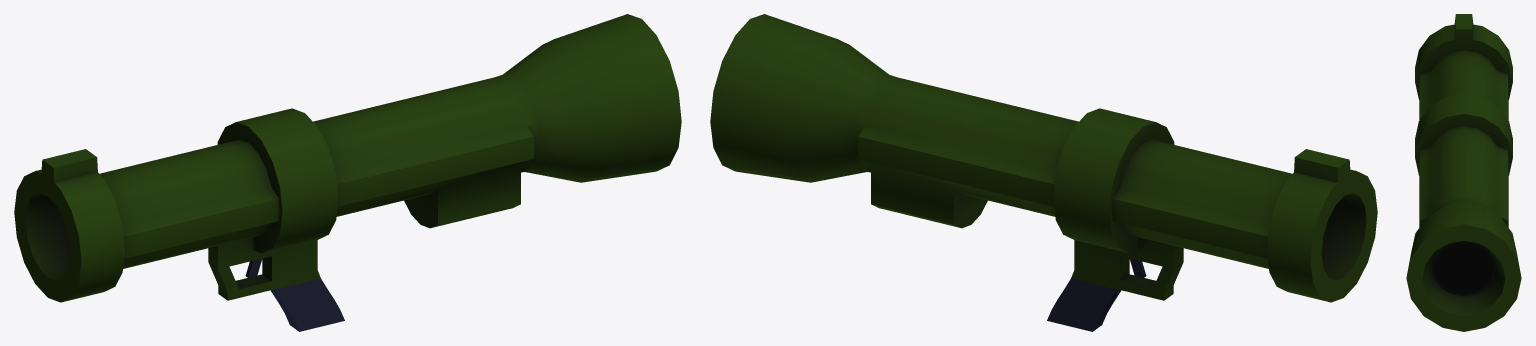
Rendered from RocketLauncher.fbx.
3 renders of one model, left to right at view 1: azimuth 30°, elevation 25°; view 2: azimuth 150°, elevation 25°; view 3: azimuth 270°, elevation 25°, orthographic. The views are drawn at different scales.
Visible parts, largest first — view 1: RocketLauncher; view 2: RocketLauncher; view 3: RocketLauncher.
Boxes of the visible parts, left/top/right/bottom form: RocketLauncher: left=14, top=14, right=681, bottom=331; RocketLauncher: left=710, top=14, right=1377, bottom=331; RocketLauncher: left=1406, top=14, right=1521, bottom=331.
Bounding box in the file's own units: 363 × 131 × 83.99.
1 material, 1 textured.
